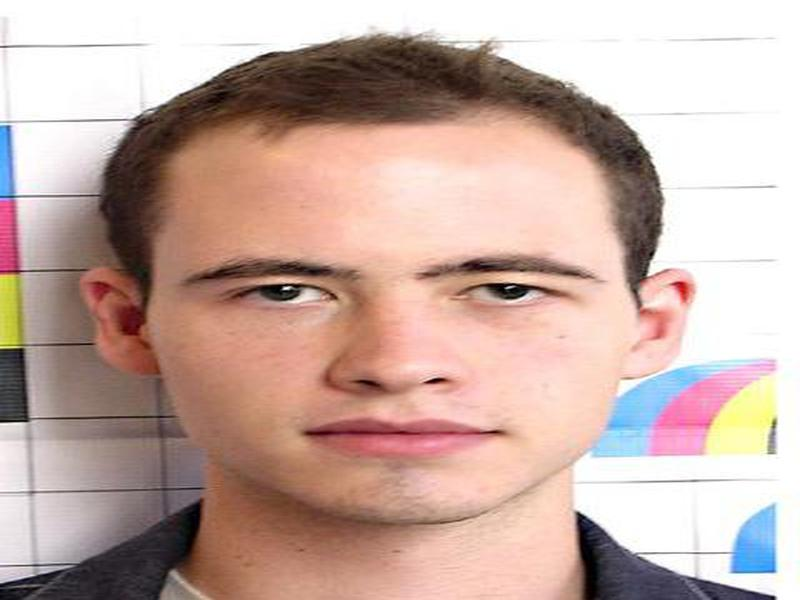without_mask: (157, 144, 621, 533)
